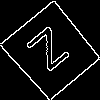Z: (26, 26, 78, 80)
